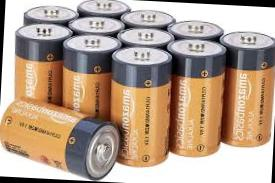battery: (0, 95, 127, 181), (96, 40, 178, 168), (158, 33, 232, 161)
